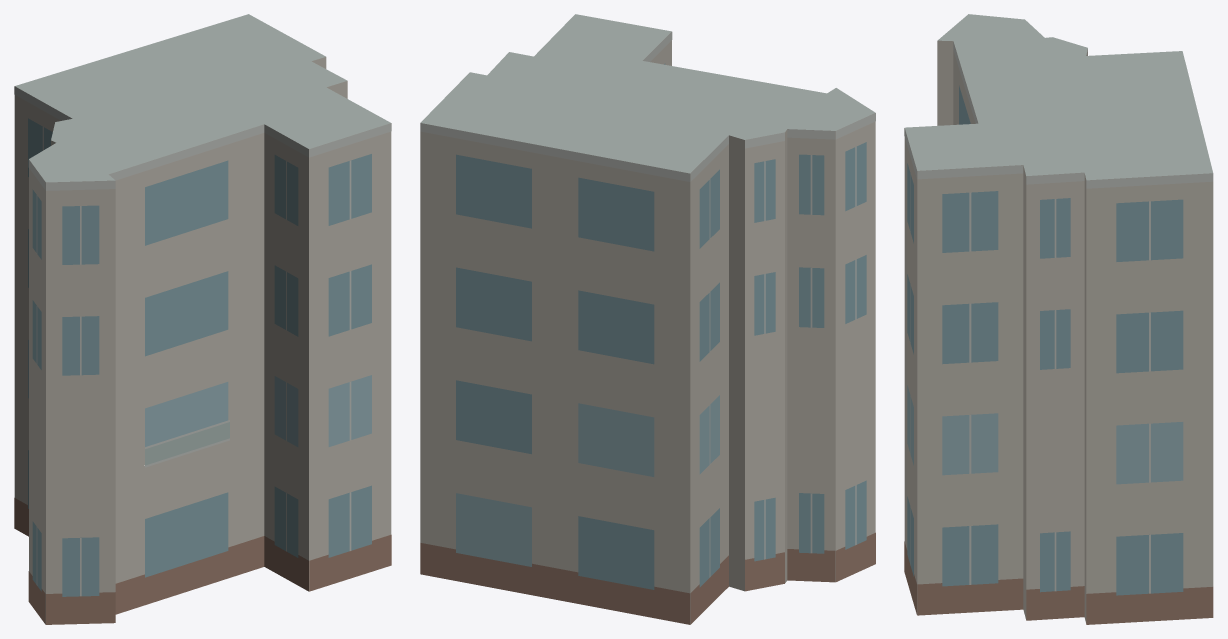
File: survey-upis-32462483.glb
3 renders of one model, left to right at view 1: azimuth 30°, elevation 25°; view 2: azimuth 150°, elevation 25°; view 3: azimuth 270°, elevation 25°, orthographic. The views are drawn at different scales.
Parts seen in each view (by area): view 1: survey-upis-32462483.tmp; view 2: survey-upis-32462483.tmp; view 3: survey-upis-32462483.tmp.
Part boxes in pixels (x1,y1,x2,y2): survey-upis-32462483.tmp: (14,14,391,624); survey-upis-32462483.tmp: (420,14,875,624); survey-upis-32462483.tmp: (904,14,1213,624).
Size of the model in its own units: 10.28 by 12.8 by 8.07.
